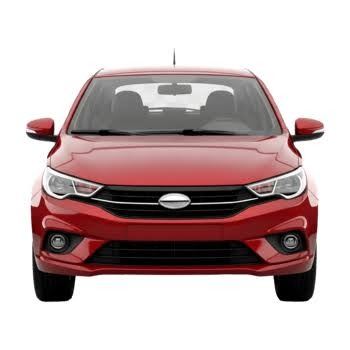car: (25, 63, 317, 298)
